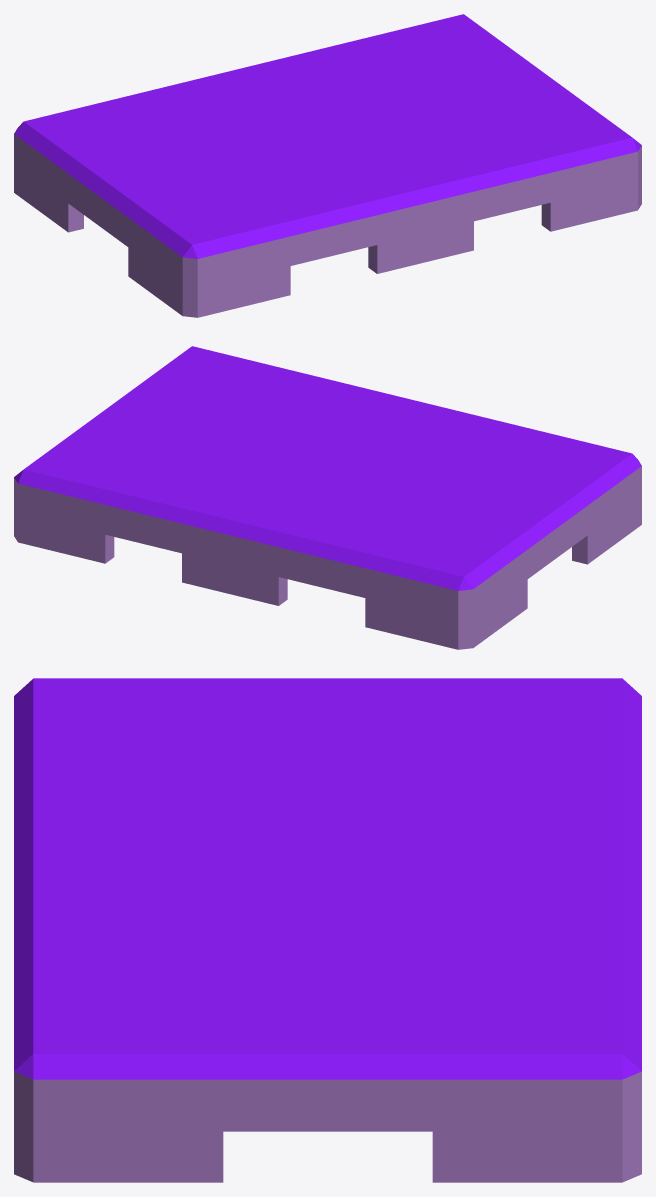
File: Platform.fbx
The picture shows the model from 3 angles, top to bottom: view 1: azimuth 30°, elevation 25°; view 2: azimuth 150°, elevation 25°; view 3: azimuth 270°, elevation 25°; orthographic projection. The views are drawn at different scales.
Parts seen in each view (by area): view 1: Platform_LOD0; view 2: Platform_LOD0; view 3: Platform_LOD0.
Boxes of the visible parts, <box> form: Platform_LOD0: <box>14,14,641,317</box>; Platform_LOD0: <box>14,346,641,649</box>; Platform_LOD0: <box>14,678,641,1182</box>.
Size of what is drawn, in the model's own units: 104 by 14.94 by 70.59.
